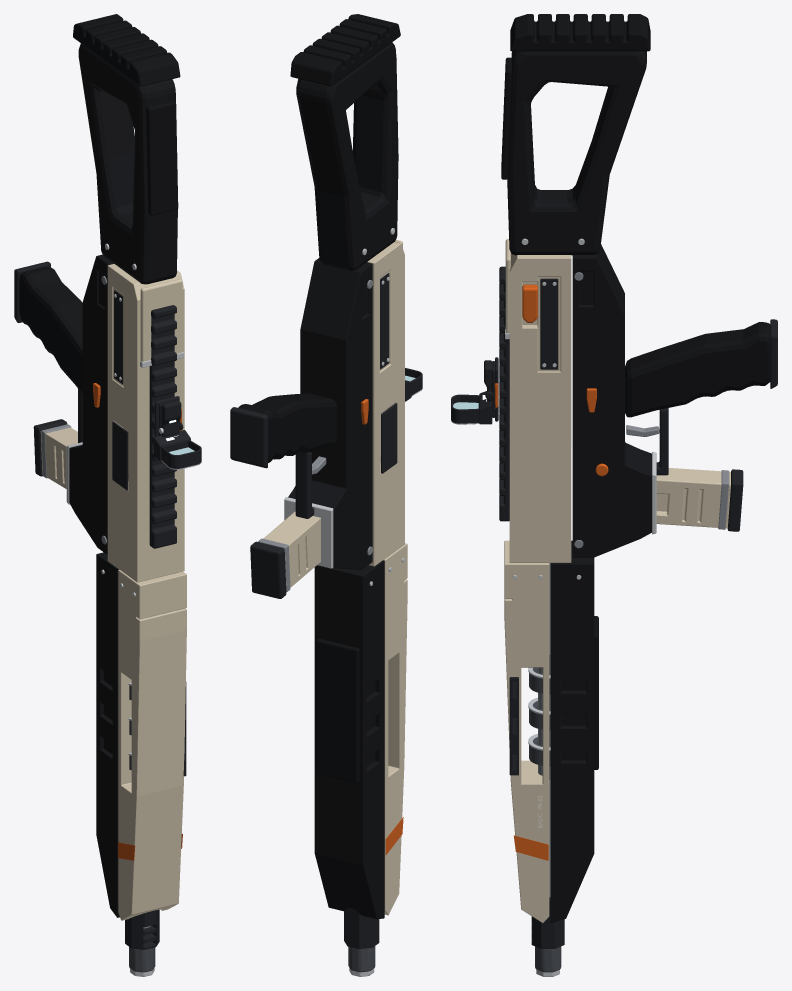
The model's file is BASIC-02-v2.1.fbx.
The picture shows the model from 3 angles, left to right: view 1: azimuth 30°, elevation 25°; view 2: azimuth 150°, elevation 25°; view 3: azimuth 270°, elevation 25°; orthographic projection. The views are drawn at different scales.
Visible parts, largest first — view 1: pulse_chamber, stock, upper, lower, handguard, rail, grip, butt_pad, cheek_pad, top_cover, magazine, muzzle (+8 smaller); view 2: handguard, stock, lower, upper, pulse_chamber, handguard_grip, butt_pad, grip, magazine, grip_cap, magazine_base, muzzle (+5 smaller); view 3: lower, upper, stock, handguard, pulse_chamber, grip, butt_pad, magazine, rail, side_panel_l, muzzle, cheek_pad (+6 smaller).
Boxes of the visible parts, box(x1,y1,x2,y2) form: pulse_chamber: box(118, 570, 186, 920); stock: box(78, 43, 177, 284); upper: box(107, 264, 184, 582); lower: box(69, 254, 113, 554); handguard: box(96, 552, 119, 917); rail: box(149, 305, 176, 548); grip: box(19, 267, 82, 393); butt_pad: box(73, 14, 180, 86); cheek_pad: box(146, 101, 178, 215); top_cover: box(140, 279, 182, 361); magazine: box(40, 427, 77, 488); muzzle: box(125, 909, 159, 949); handguard: box(314, 560, 384, 919); stock: box(296, 42, 398, 270); lower: box(288, 258, 372, 569); upper: box(367, 242, 404, 566); pulse_chamber: box(383, 543, 407, 915); handguard_grip: box(316, 638, 359, 783); butt_pad: box(290, 14, 400, 86); grip: box(238, 393, 337, 462); magazine: box(263, 511, 320, 590); grip_cap: box(230, 407, 267, 468); magazine_base: box(250, 541, 286, 598); muzzle: box(344, 908, 379, 949); lower: box(572, 244, 651, 557); upper: box(509, 253, 571, 562); stock: box(507, 51, 646, 255); handguard: box(550, 540, 594, 923); pulse_chamber: box(504, 540, 549, 922); grip: box(625, 322, 770, 417); butt_pad: box(510, 14, 650, 51); magazine: box(656, 468, 730, 528); rail: box(499, 266, 509, 521); side_panel_l: box(540, 278, 558, 369); muzzle: box(531, 897, 564, 948); cheek_pad: box(501, 57, 511, 179).
Bounding box in the file's own units: 0.051 × 0.8155 × 0.2546.
